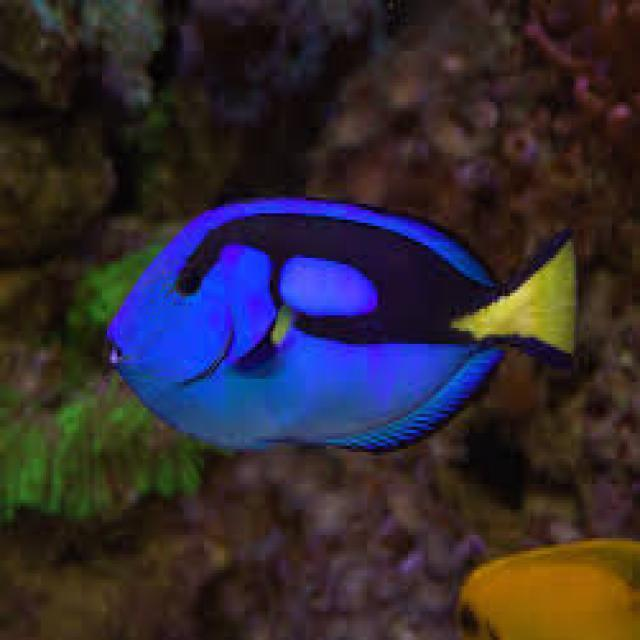TangFish: (100, 191, 582, 454)
